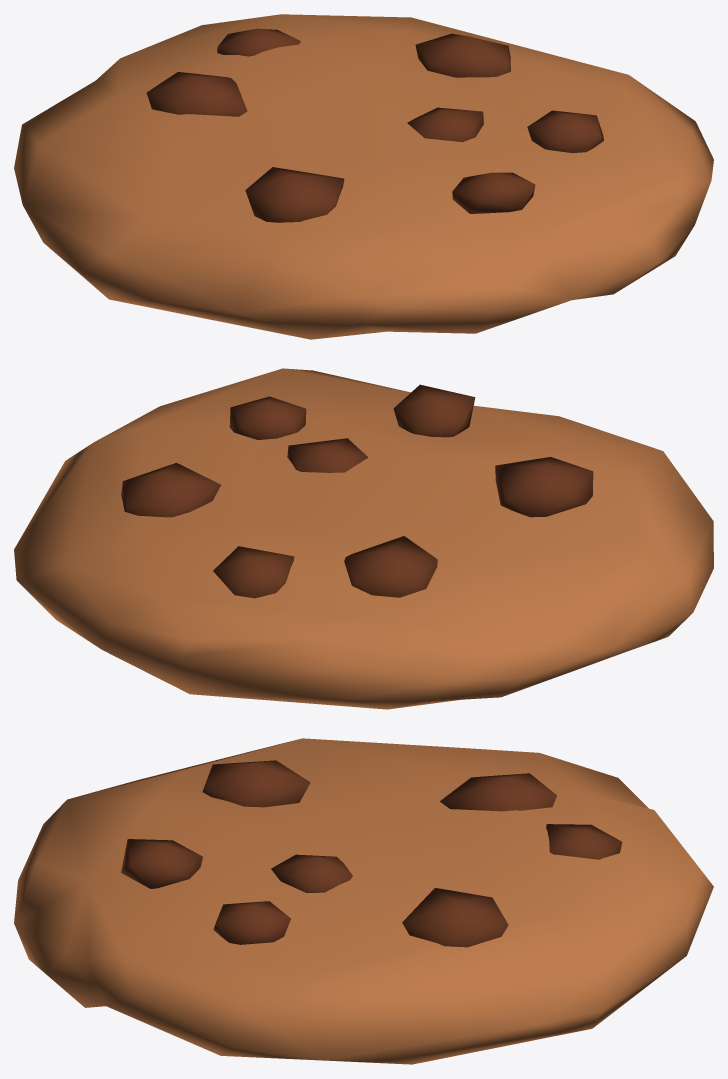
Rendered from Cookie_01.fbx.
3 views of the same model, one above another, from view 1: azimuth 30°, elevation 25°; view 2: azimuth 150°, elevation 25°; view 3: azimuth 270°, elevation 25° (orthographic).
Visible parts, largest first — view 1: Cookie_01; view 2: Cookie_01; view 3: Cookie_01.
Part boxes in pixels (x1,y1,x2,y2): Cookie_01: (14, 14, 713, 339); Cookie_01: (14, 368, 713, 709); Cookie_01: (14, 738, 713, 1064).
Size of the model in its own units: 0.0998 by 0.0191 by 0.0965.
